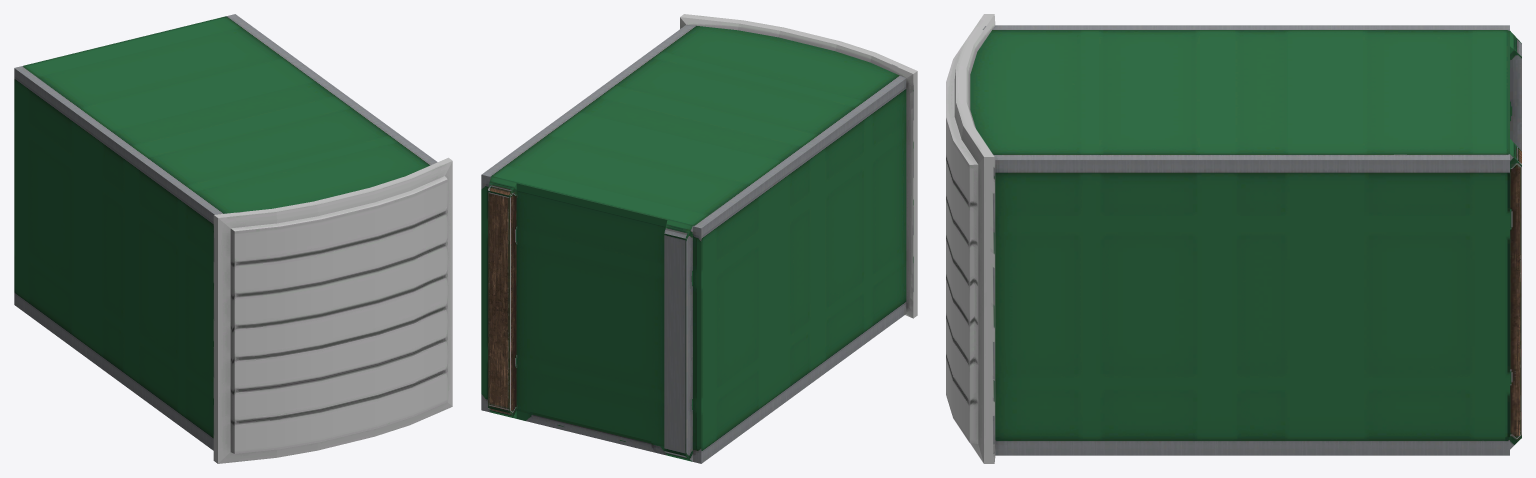
File: Portable_Toilet.obj
The picture shows the model from 3 angles, left to right: view 1: azimuth 30°, elevation 25°; view 2: azimuth 150°, elevation 25°; view 3: azimuth 270°, elevation 25°; orthographic projection. The views are drawn at different scales.
Parts seen in each view (by area): view 1: PortaJohn_LOW; view 2: PortaJohn_LOW; view 3: PortaJohn_LOW.
Boxes of the visible parts, bbox=[...] form: PortaJohn_LOW: bbox=[14, 14, 452, 463]; PortaJohn_LOW: bbox=[481, 14, 917, 463]; PortaJohn_LOW: bbox=[946, 14, 1521, 463].
Bounding box in the file's own units: 1.33 × 1.33 × 2.26.
Materials: 1 (1 with a texture image).
